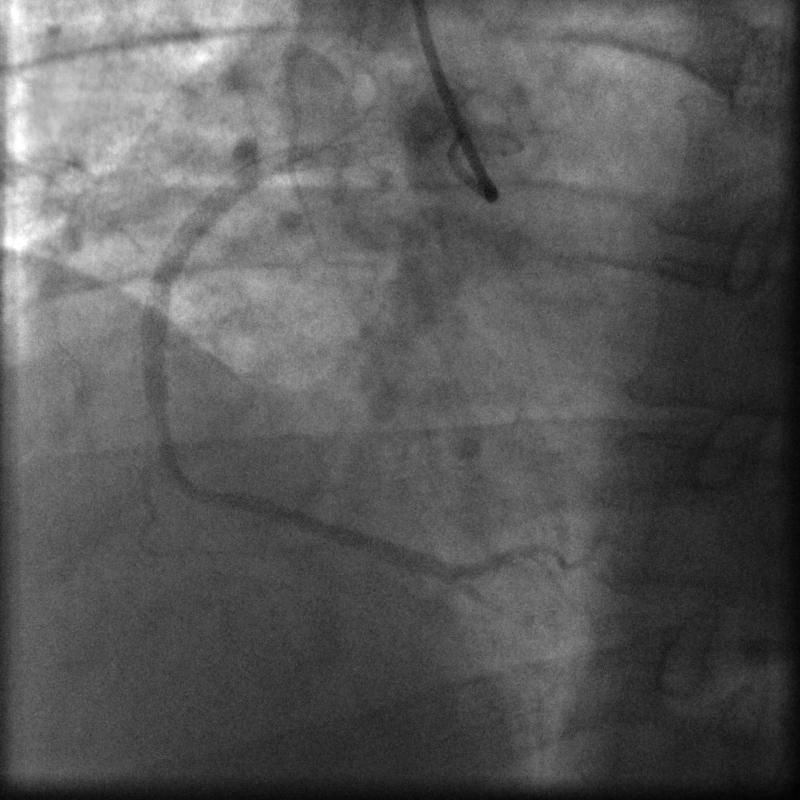Stenosis: (140, 395, 175, 475)
